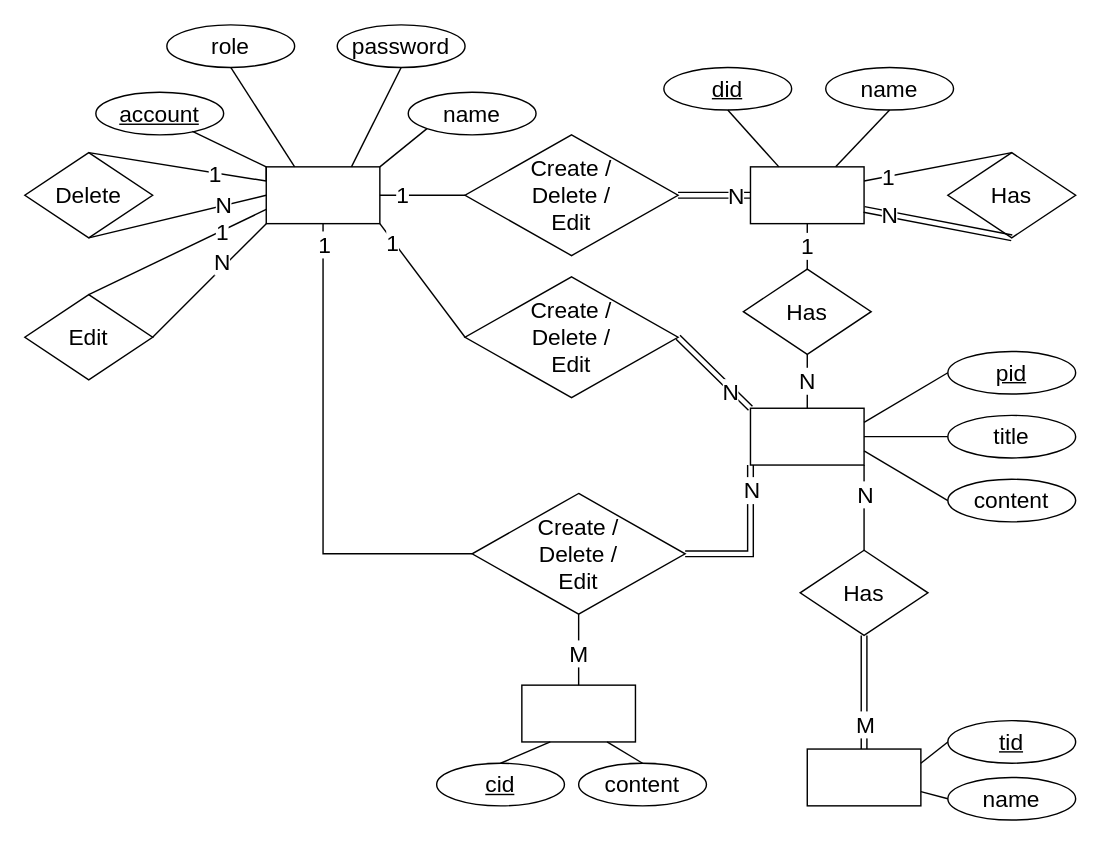
The diagram is 1101 pixels wide and 845 high, and some of its shapes have lost their labels. The shapes that lost their labels are listed below. From the top down, each one's centre as x and y in pixels, then its label:
At [322,194]: "User".
At [806,194]: "Directory".
At [806,436]: "Post".
At [577,713]: "Comment".
At [863,777]: "Tag".
